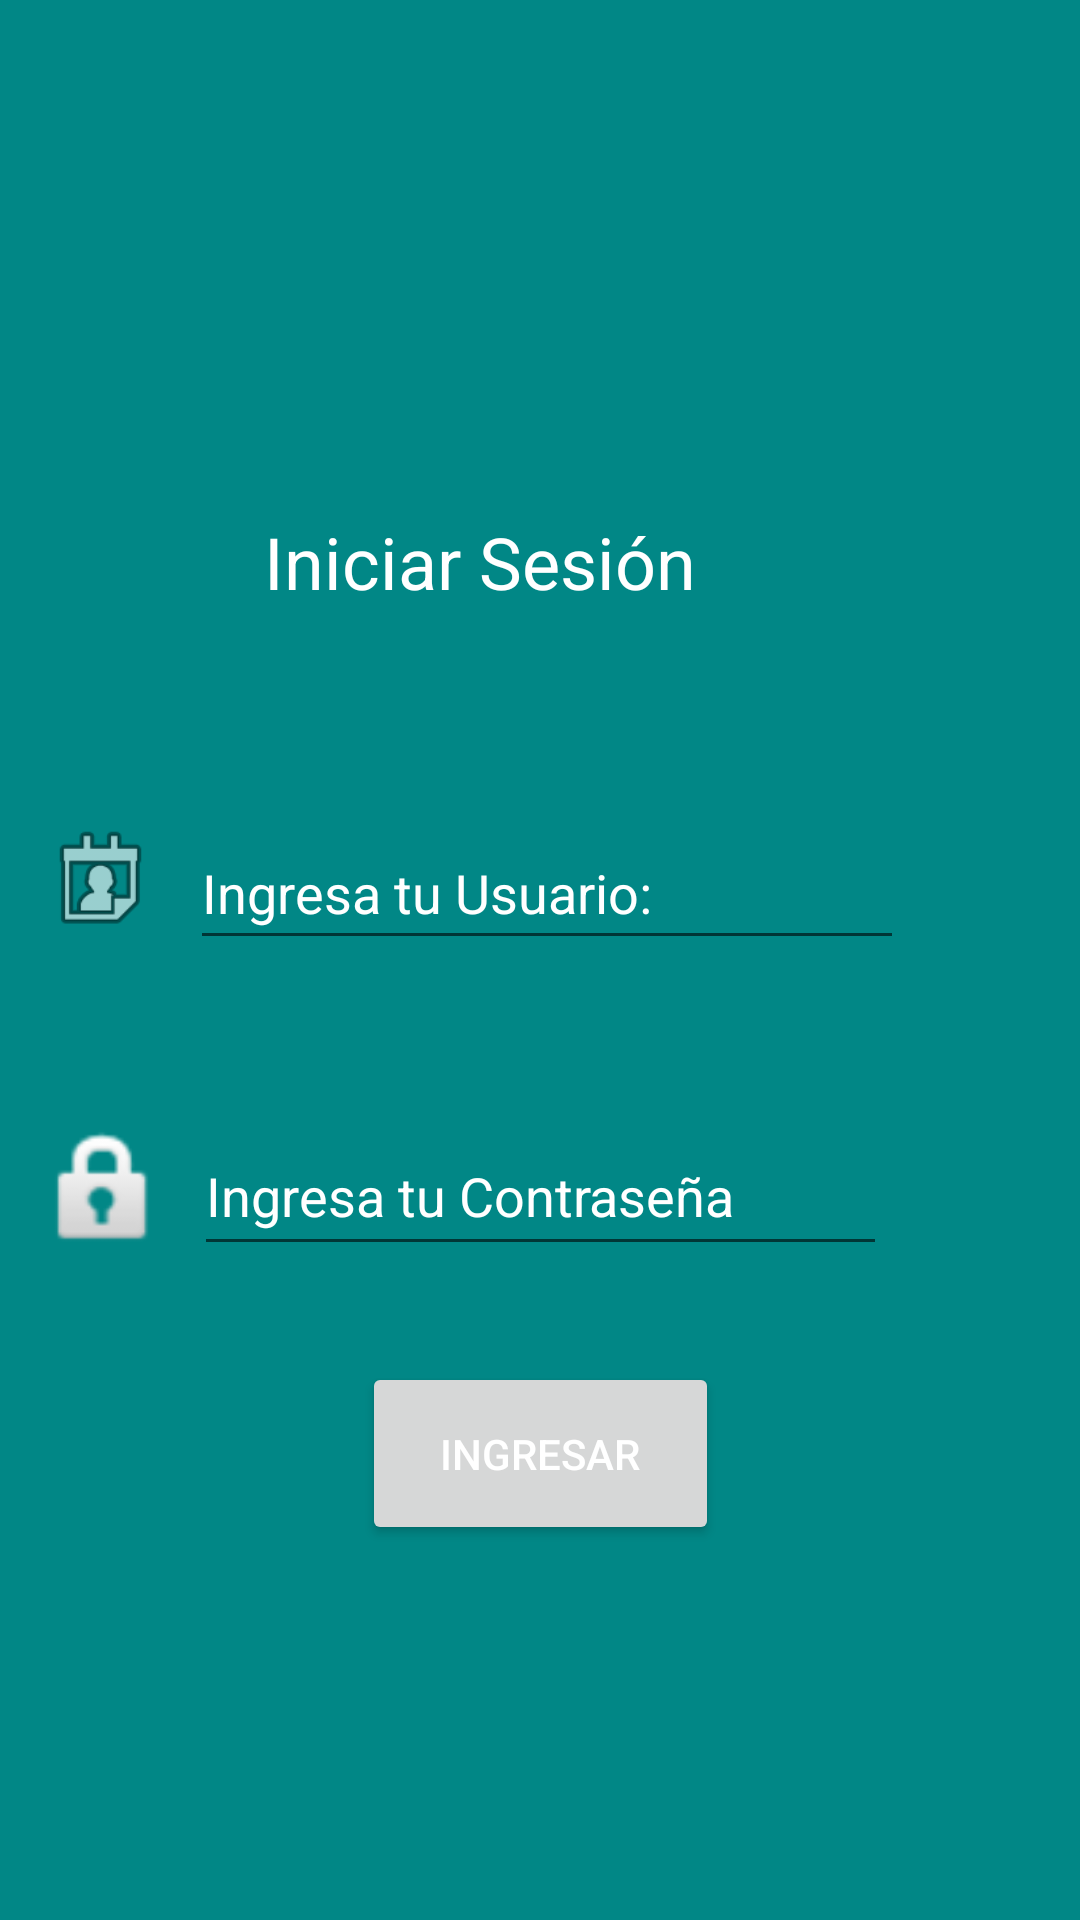

Point at icon controls on the screen. Image size 1080 × 1920, points as (x,y).
calendar: (100,878)
lock idle: (102,1186)
